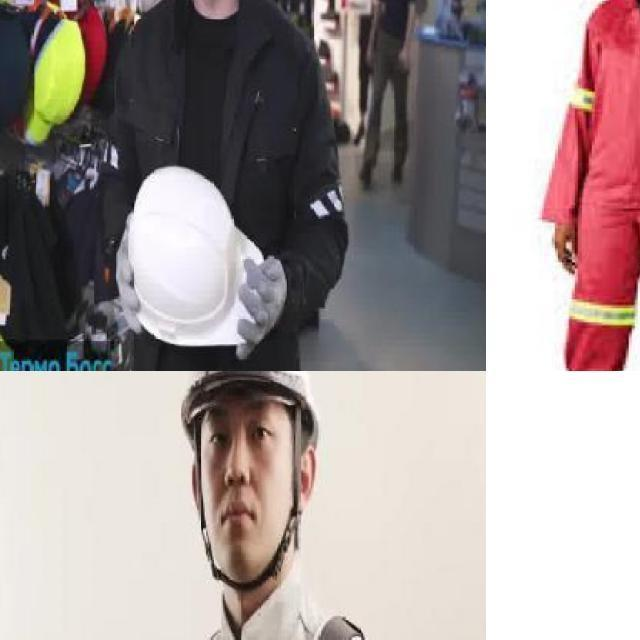apron: (234, 252, 288, 358), (116, 212, 141, 338)
